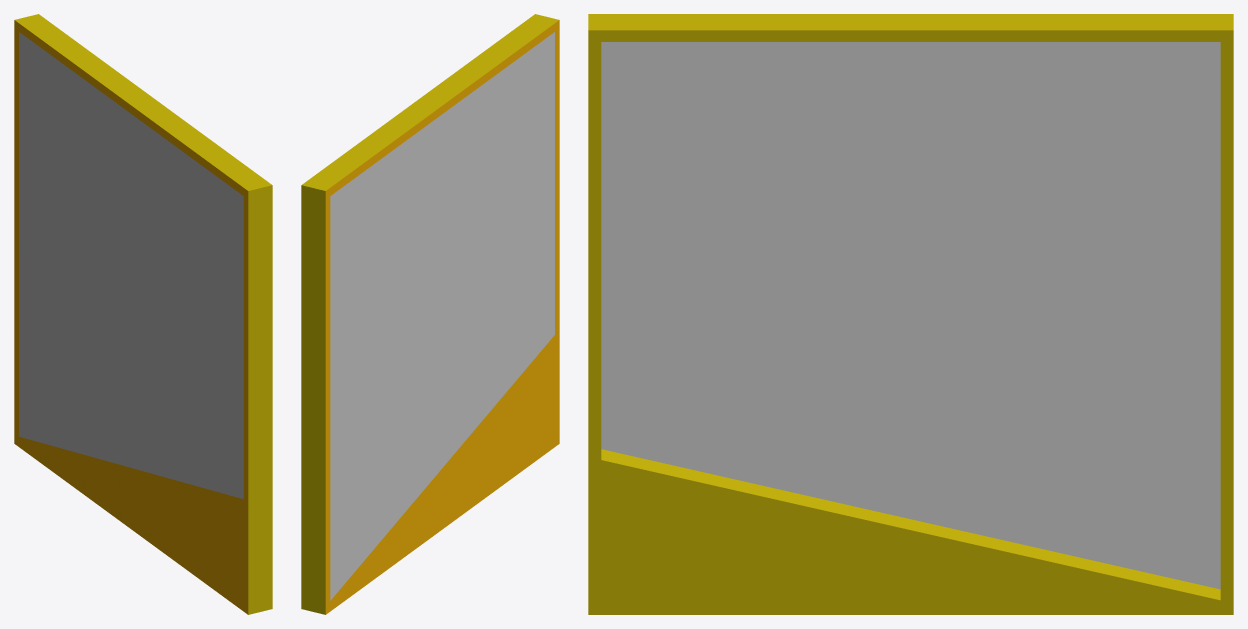
The model's file is 709_window_side_1.dae.
3 views of the same model, side by side, from view 1: azimuth 30°, elevation 25°; view 2: azimuth 150°, elevation 25°; view 3: azimuth 270°, elevation 25° (orthographic). The views are drawn at different scales.
Parts seen in each view (by area): view 1: Cube; view 2: Cube; view 3: Cube.
Boxes of the visible parts, x1,y1,x2,y2 form: Cube: [14, 14, 272, 614]; Cube: [301, 14, 559, 614]; Cube: [588, 14, 1233, 614].
Bounding box in the file's own units: 0.06 × 1 × 1.
